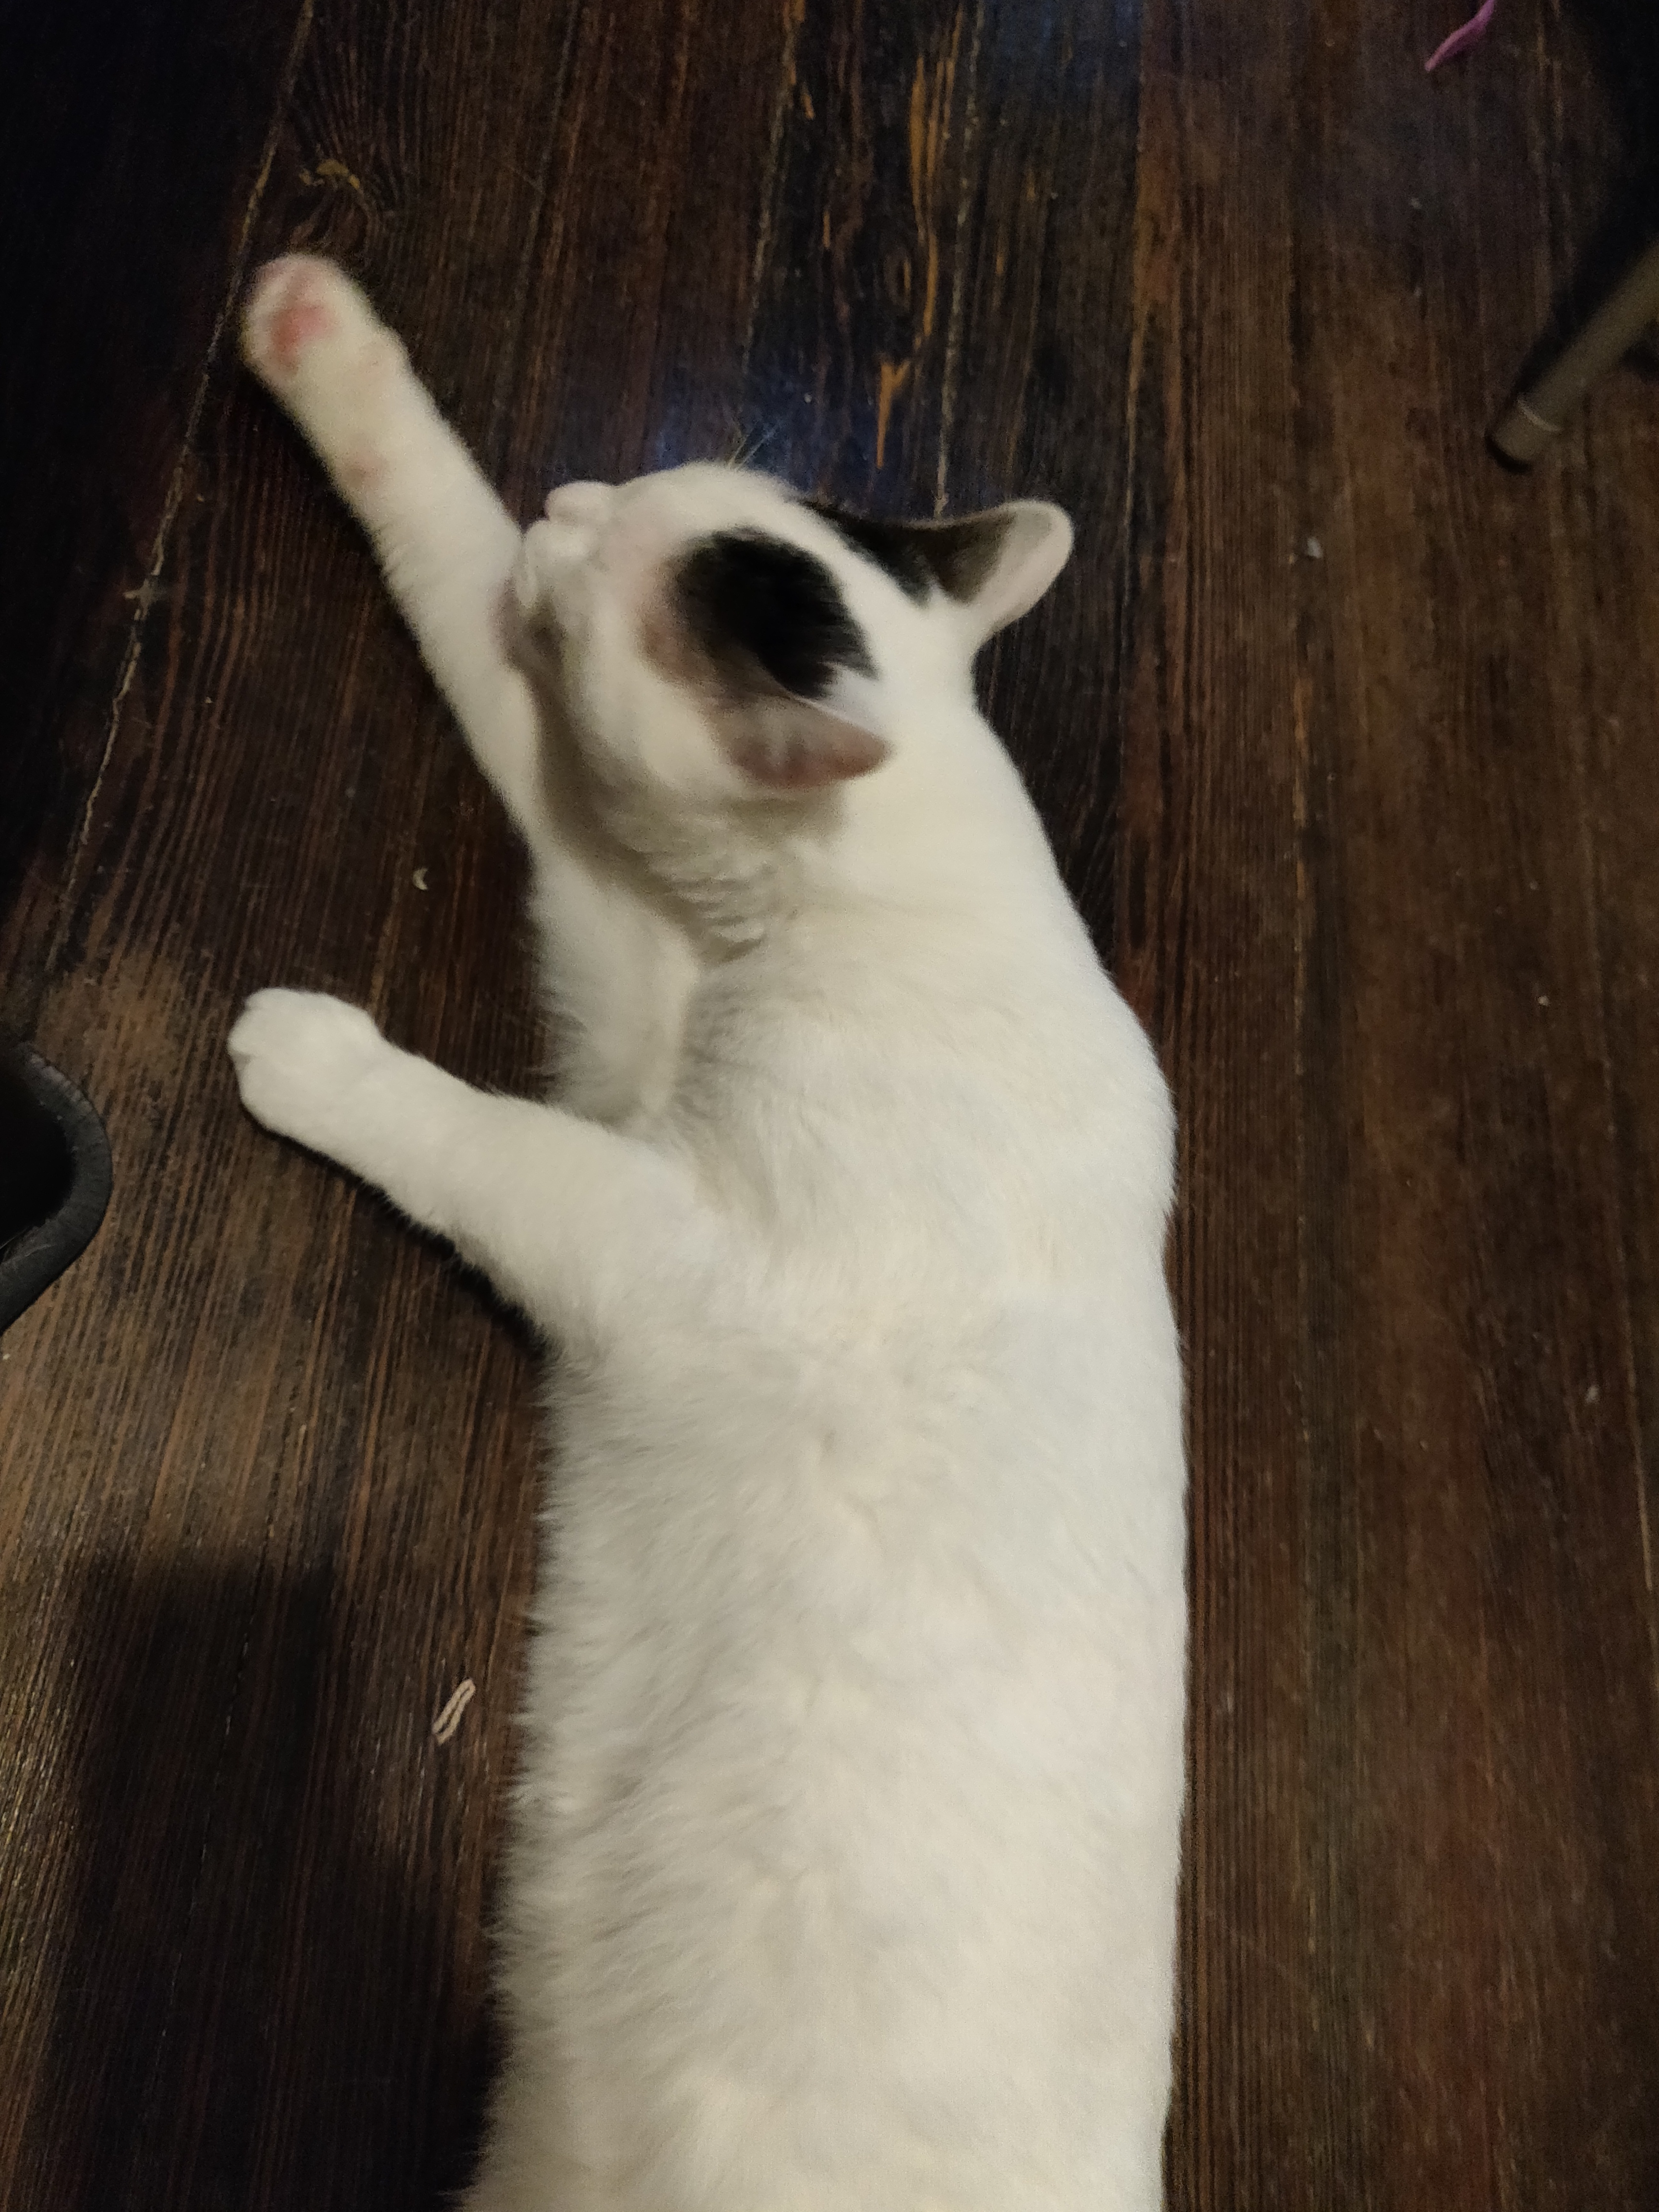cat: (258, 234, 1180, 2208)
